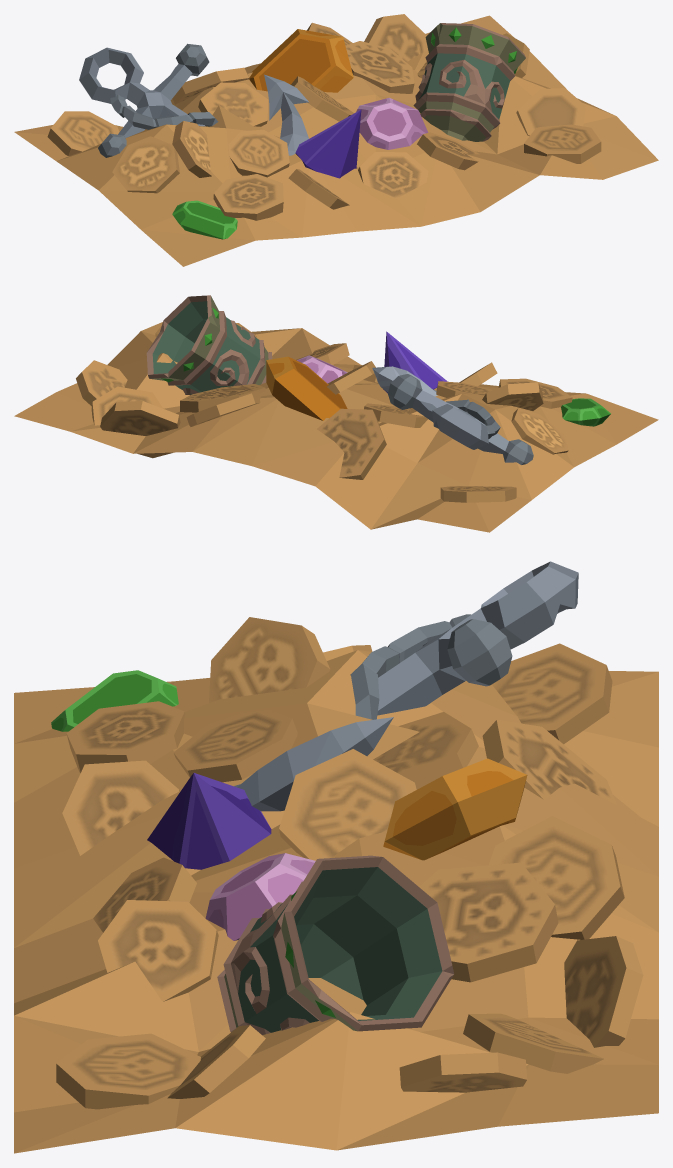
File: SM_Prop_Treasure_Chest_05_Insert_01.fbx
The picture shows the model from 3 angles, top to bottom: view 1: azimuth 30°, elevation 25°; view 2: azimuth 150°, elevation 25°; view 3: azimuth 270°, elevation 25°; orthographic projection. The views are drawn at different scales.
Visible parts, largest first — view 1: SM_Prop_Treasure_Chest_05_Insert_01; view 2: SM_Prop_Treasure_Chest_05_Insert_01; view 3: SM_Prop_Treasure_Chest_05_Insert_01.
Part boxes in pixels (x1,y1,x2,y2): SM_Prop_Treasure_Chest_05_Insert_01: [14, 14, 658, 266]; SM_Prop_Treasure_Chest_05_Insert_01: [14, 295, 658, 532]; SM_Prop_Treasure_Chest_05_Insert_01: [14, 561, 658, 1153].
Bounding box in the file's own units: 80.73 × 26.72 × 49.75.
